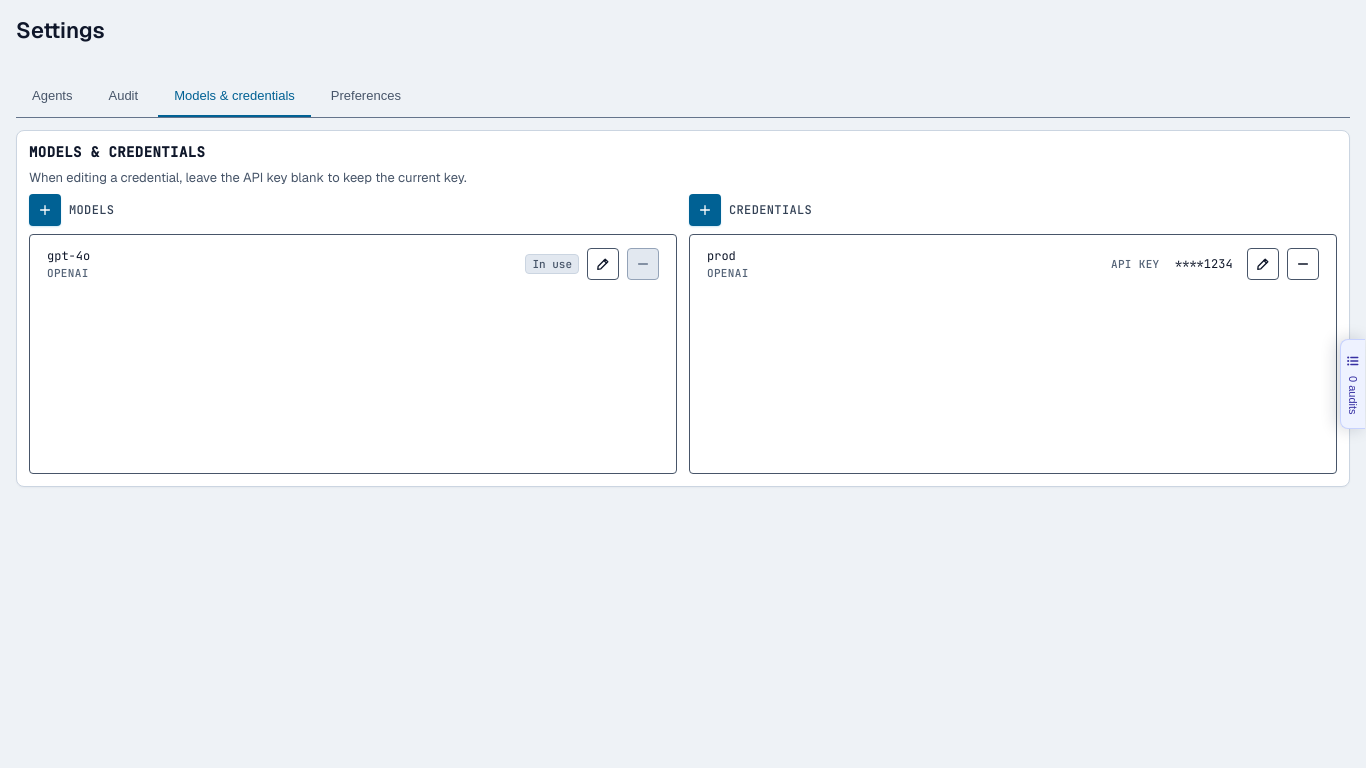
Test: SettingsPage › toasts registration failures keeping the modal open
Expected: the option "gpt-4o OpenAI In use" is shown, [34,239,672,288]
Click the button named "Add model": (45, 210) [29,194,61,226]
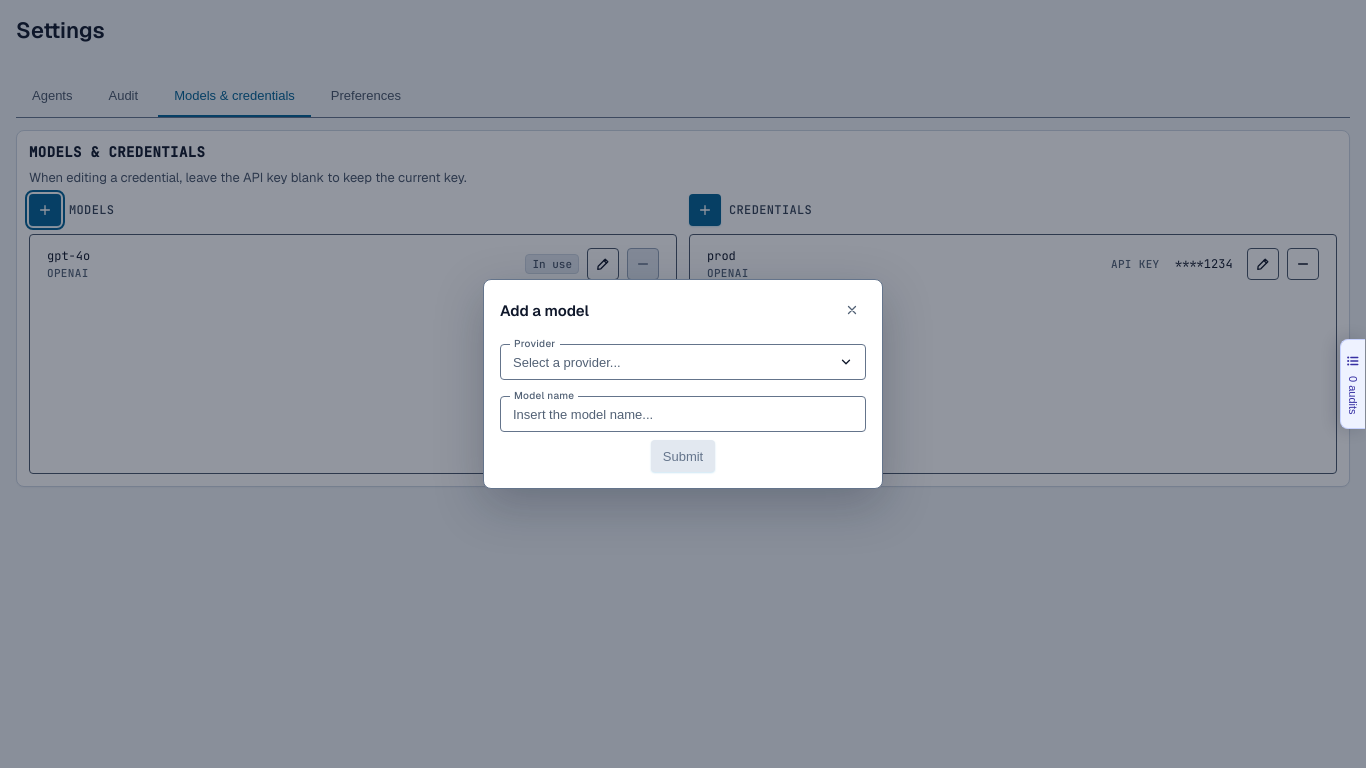
Click the button "Select a provider...": (567, 362) [500,344,866,380]
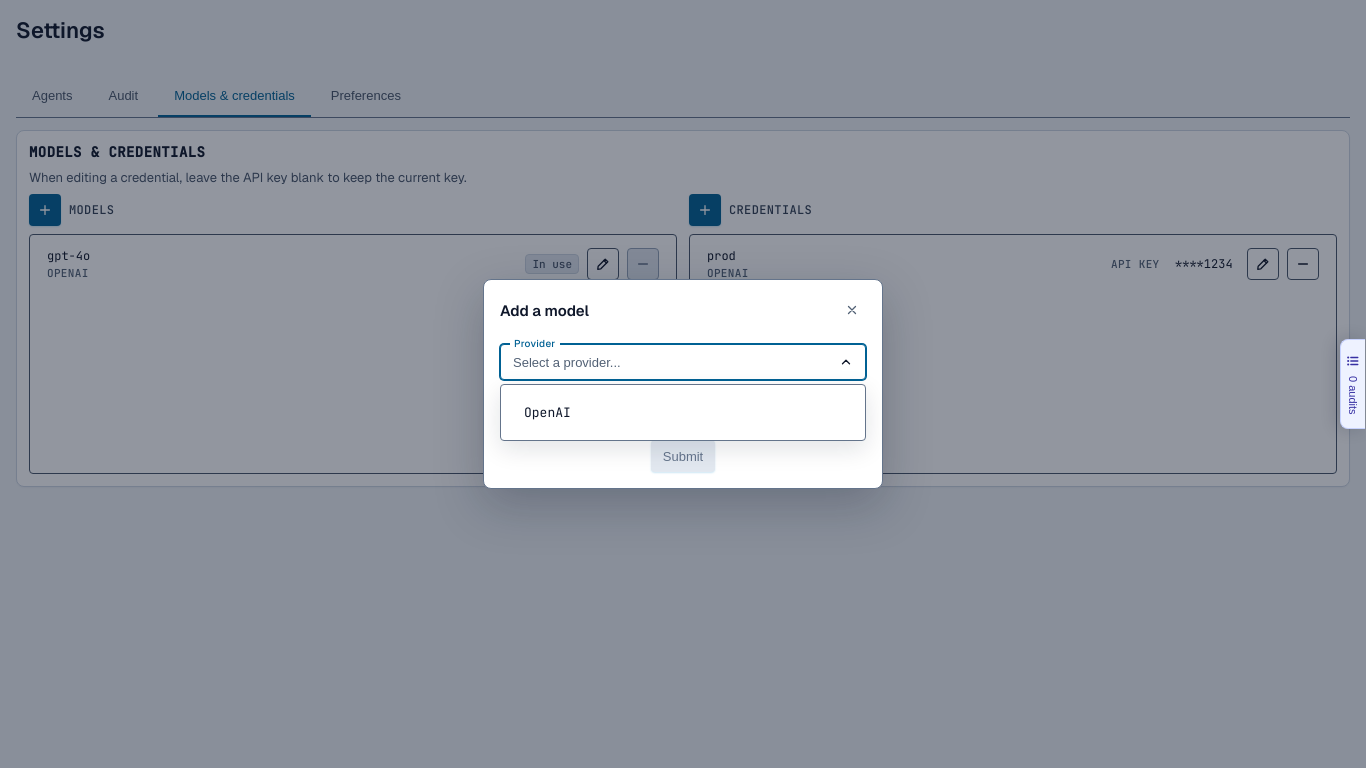
Click the option "OpenAI": (547, 412) [511,395,855,430]
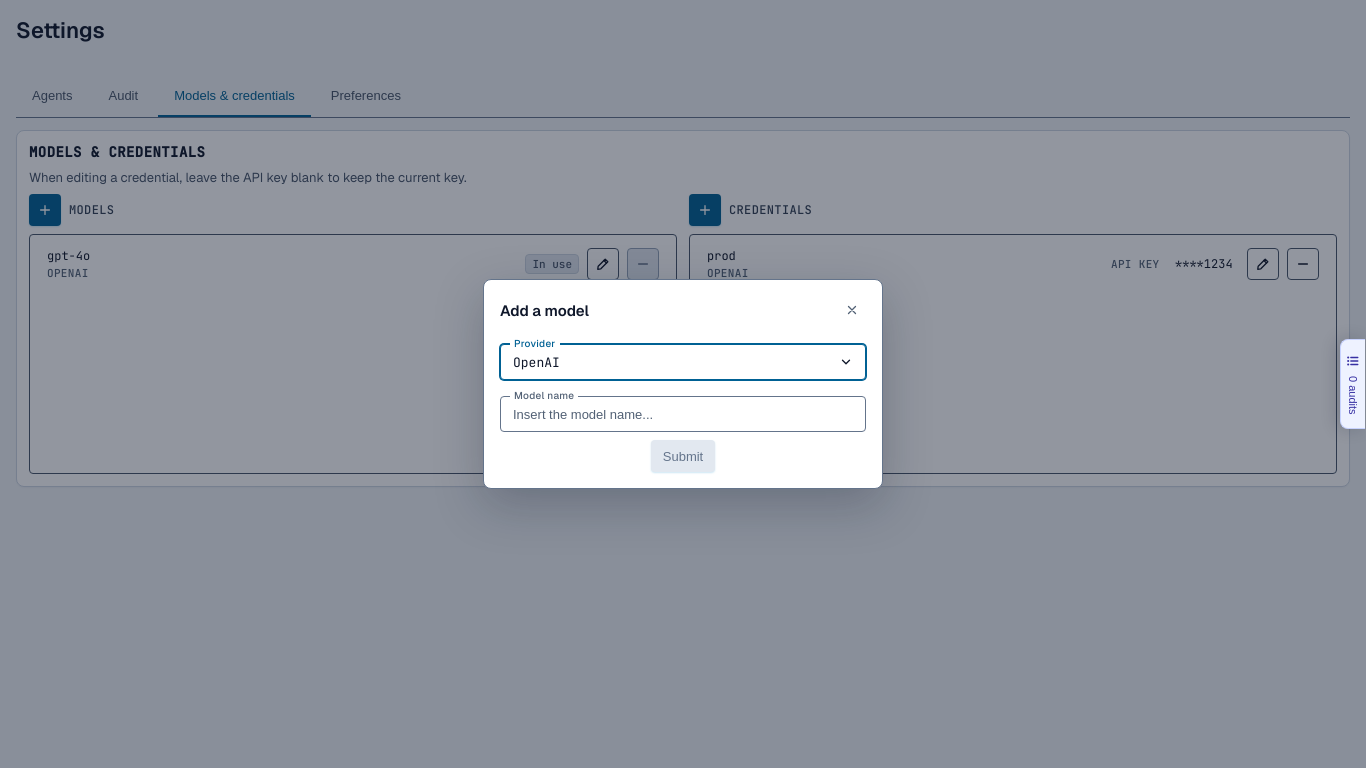
In the field with placeholder "Insert the model name...": (683, 414) [500,396,866,432], type "gpt-4o"
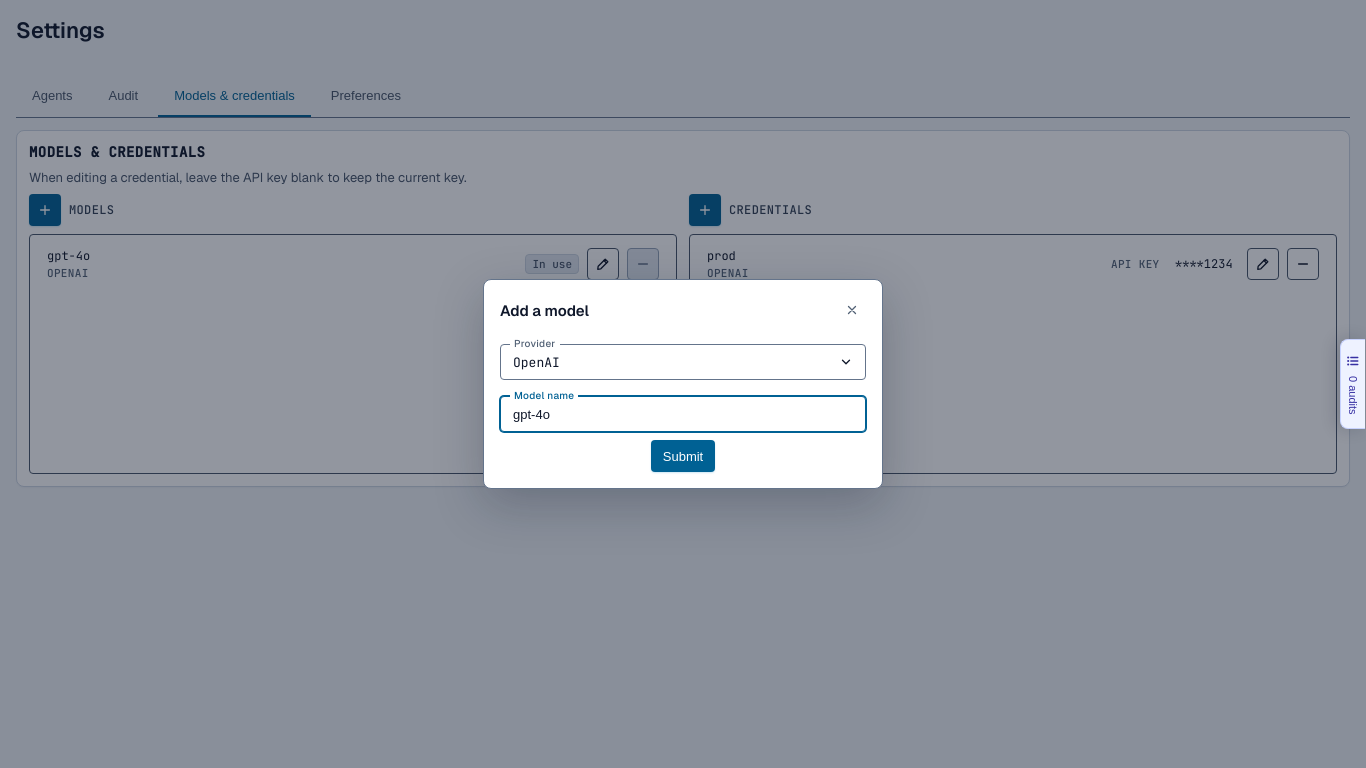
Click the button "Submit": (683, 456) [651,440,715,472]
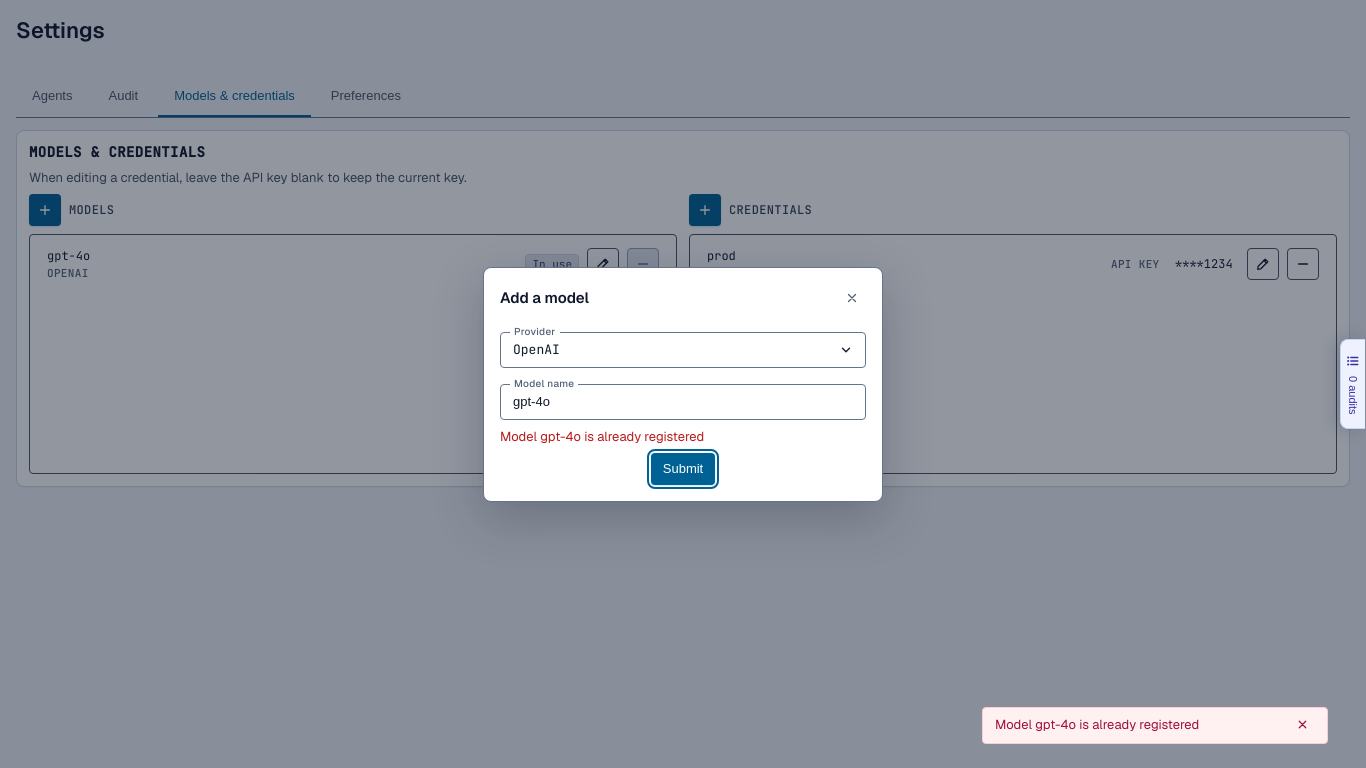
Expected: the dialog "Add a model" is shown, [483,266,883,502]
Expected: the text "Model gpt-4o is already registered" is shown 2 times, [500,428,704,444]; [995,716,1199,733]
